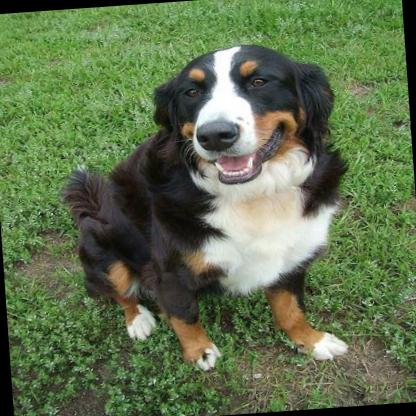Bernese_mountain_dog: (47, 38, 350, 380)
